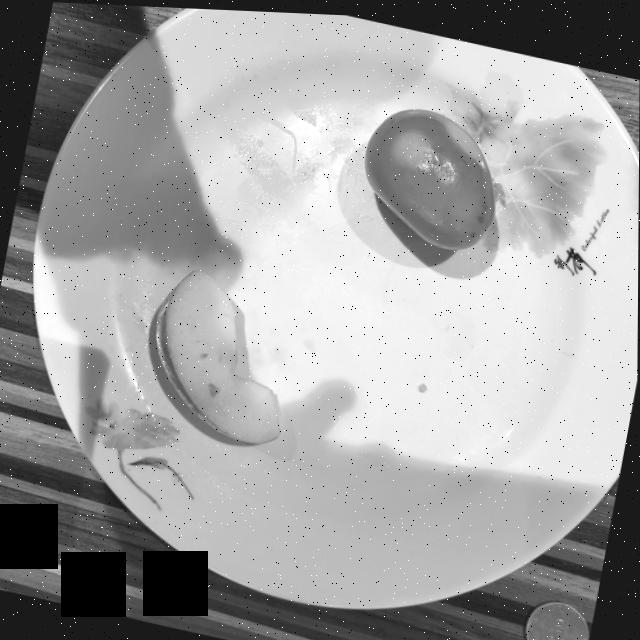apple -sliced-: (155, 267, 280, 441)
coin: (525, 596, 589, 640)
soy egg: (363, 104, 494, 246)
